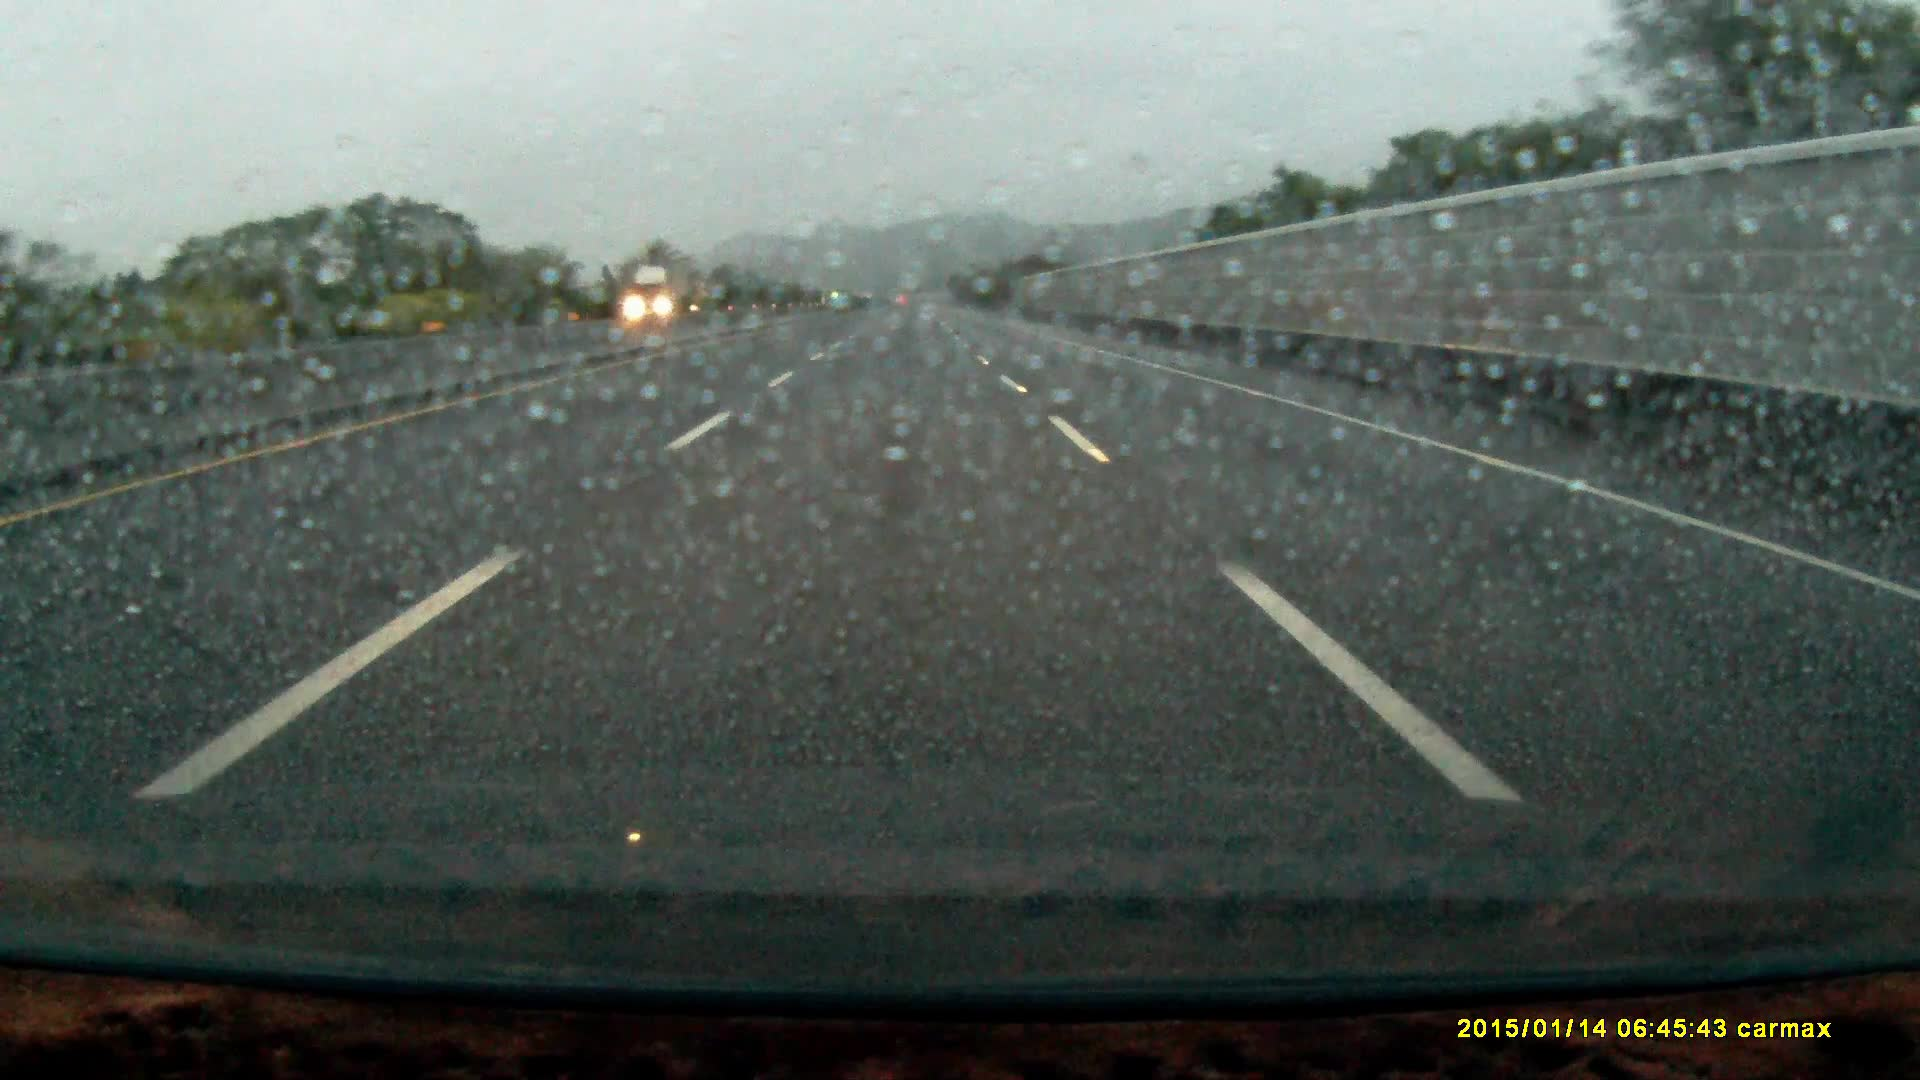vehicle: (625, 265, 700, 318)
